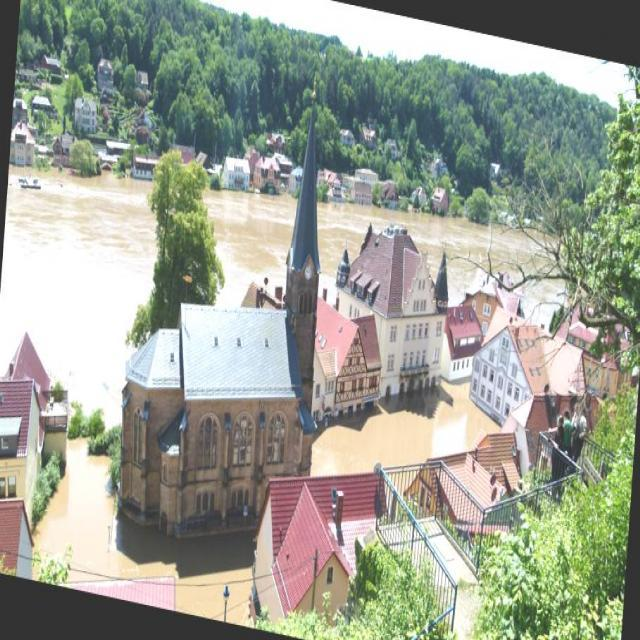flood: (13, 208, 122, 332), (227, 210, 279, 273), (376, 417, 447, 455), (53, 501, 105, 542), (421, 402, 474, 439), (319, 440, 366, 468), (324, 210, 343, 251), (323, 219, 338, 263)
